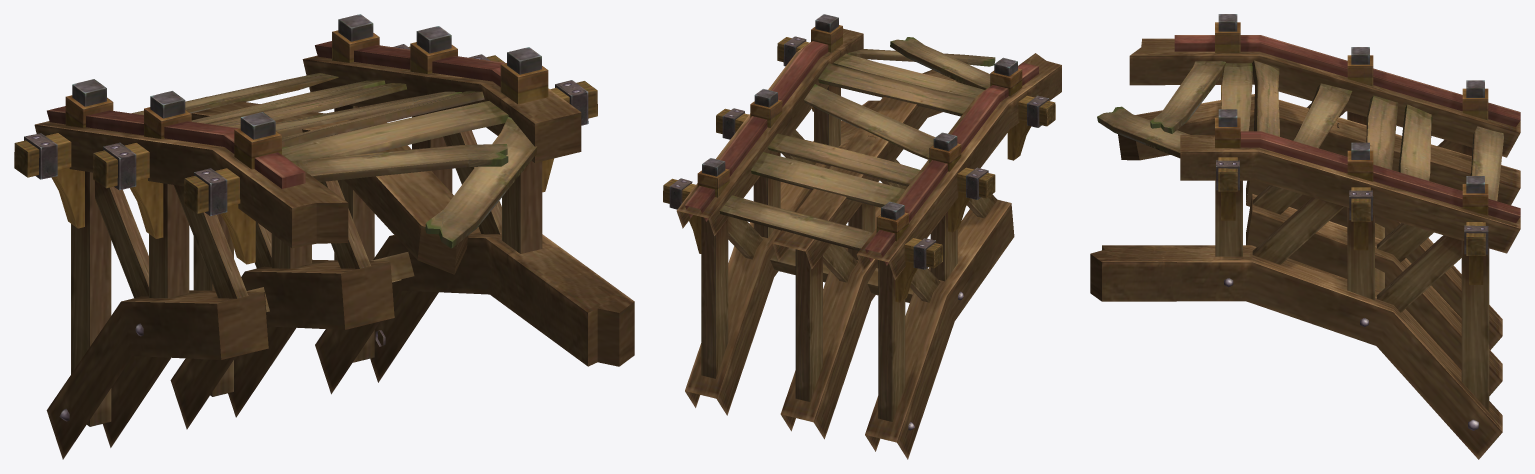
Rendered from Map01_MuQiao_01.FBX.
The picture shows the model from 3 angles, left to right: view 1: azimuth 30°, elevation 25°; view 2: azimuth 150°, elevation 25°; view 3: azimuth 270°, elevation 25°; orthographic projection. The views are drawn at different scales.
Parts seen in each view (by area): view 1: Object242; view 2: Object242; view 3: Object242.
Part boxes in pixels (x1,y1,x2,y2): Object242: (14,14,634,459); Object242: (663,14,1061,459); Object242: (1090,14,1520,459).
Size of the model in its own units: 626 by 682 by 788.
